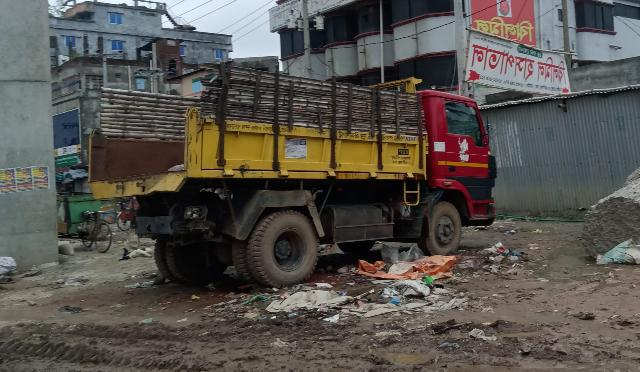truck: (72, 62, 500, 279)
